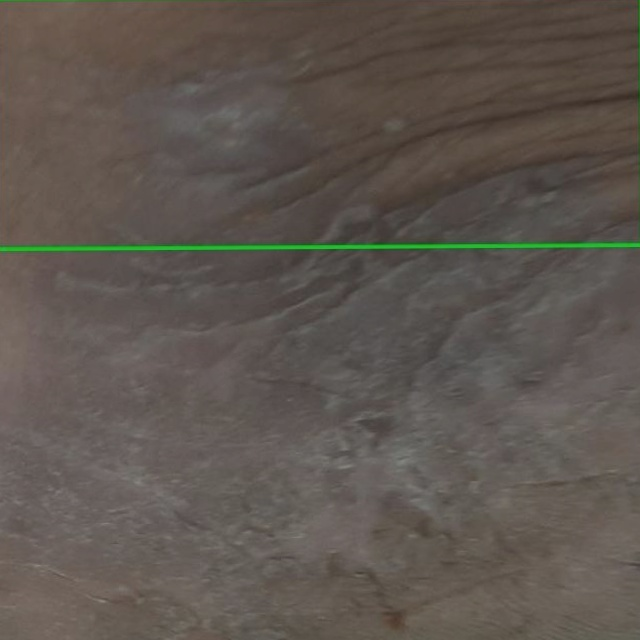Eczema: (0, 0, 639, 249)
